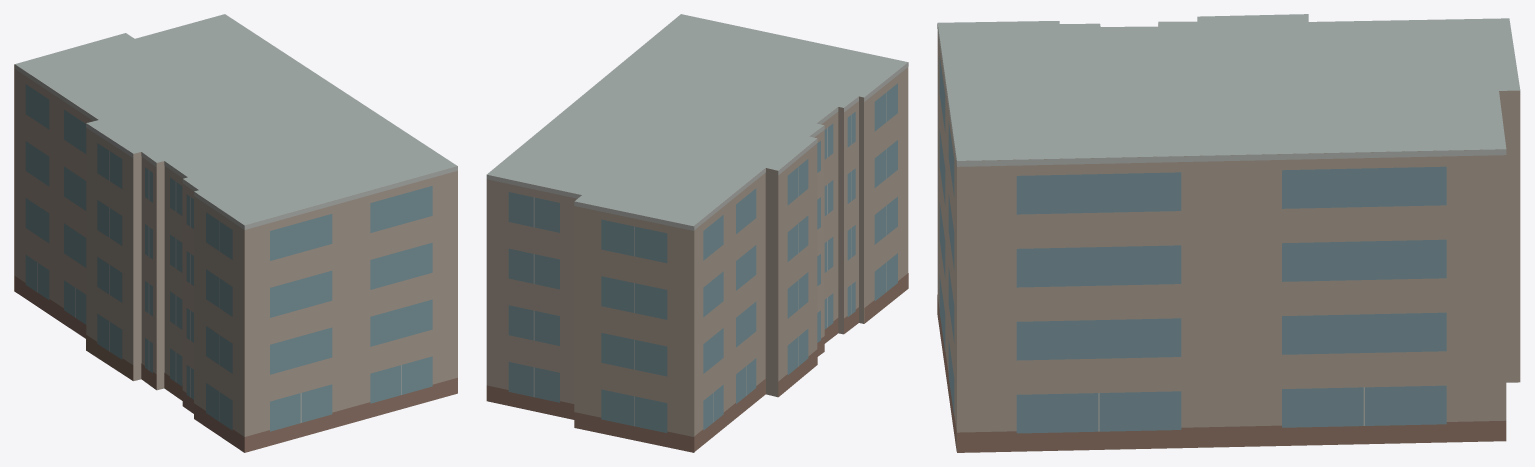
File: survey-upis-32701679.glb
3 renders of one model, left to right at view 1: azimuth 30°, elevation 25°; view 2: azimuth 150°, elevation 25°; view 3: azimuth 270°, elevation 25°, orthographic. The views are drawn at different scales.
Visible parts, largest first — view 1: survey-upis-32701679.tmp; view 2: survey-upis-32701679.tmp; view 3: survey-upis-32701679.tmp.
Boxes of the visible parts, x1=… form: survey-upis-32701679.tmp: x1=14, y1=14, x2=457, y2=452; survey-upis-32701679.tmp: x1=486, y1=14, x2=908, y2=452; survey-upis-32701679.tmp: x1=937, y1=14, x2=1520, y2=452.
Bounding box in the file's own units: 13.08 × 12.1 × 21.91.
